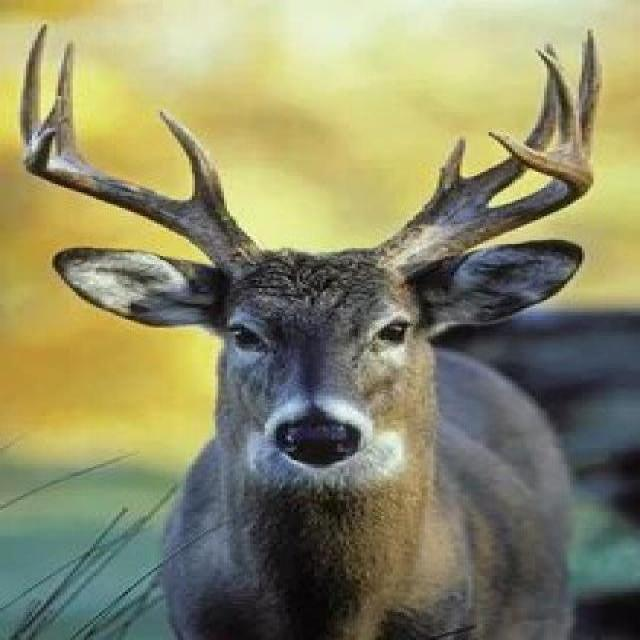deer: (0, 32, 636, 640)
